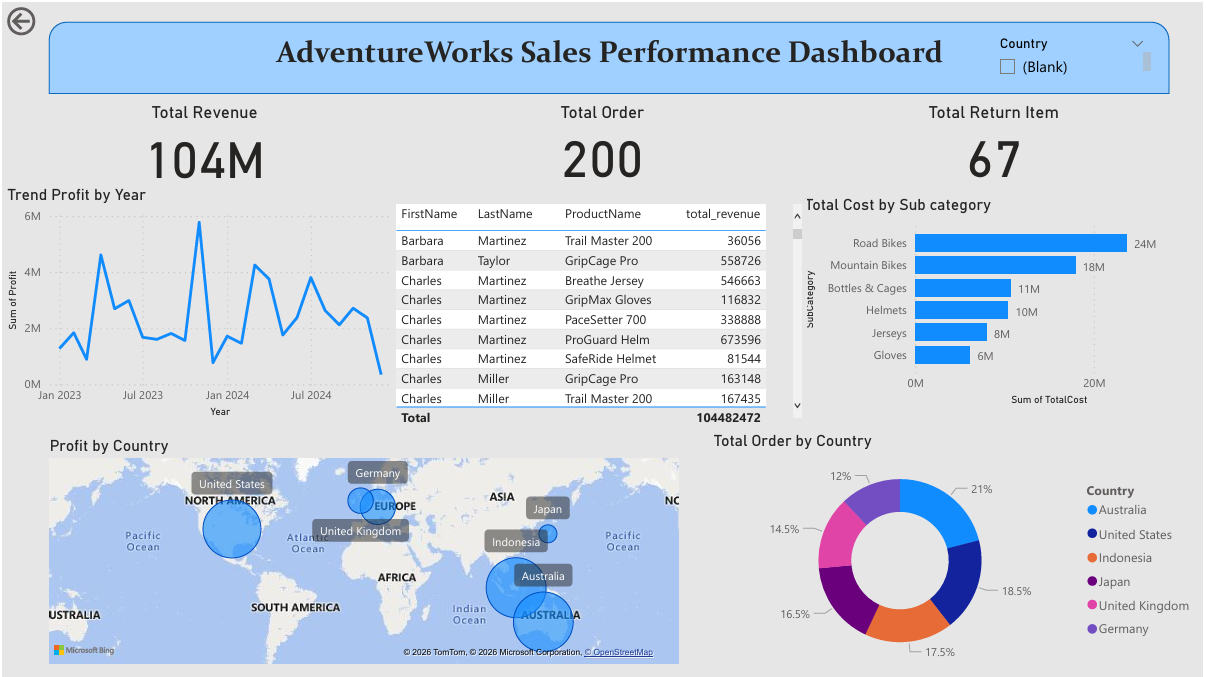

The page's visual inventory and layout, read from the dashboard file:
{"tool":"powerbi","page":{"name":"Page 1","canvas":[1280,720],"ordinal":0},"visuals":[{"type":"card","title":"Total Revenue","fields":{"Values":["Sales-AdventureWorks_Sample_Dataset xlsx.total_revenue"]},"box":[140,105.7,151.4,90],"z":0},{"type":"card","title":"Total Order","fields":{"Values":["Sales-AdventureWorks_Sample_Dataset xlsx.total_order"]},"box":[575.7,105.7,127.1,88.6],"z":1000},{"type":"card","title":"Total Return Item","fields":{"Values":["Returns-AdventureWorks_Sample_Dataset xlsx.total_return_item"]},"box":[967.1,105.7,180,88.6],"z":2000},{"type":"lineChart","title":"Trend Profit by Year","fields":{"Category":["Sales-AdventureWorks_Sample_Dataset xlsx.OrderDate.Variation.Date Hierarchy.Year","Sales-AdventureWorks_Sample_Dataset xlsx.OrderDate.Variation.Date Hierarchy.Month"],"Y":["Sum(Sales-AdventureWorks_Sample_Dataset xlsx.Profit)"]},"box":[0,194.9,430.9,252.5],"z":3000},{"type":"map","title":"Profit by Country","fields":{"Category":["Territories-AdventureWorks_Sample_Dataset xlsx.Country"],"Size":["Sum(Sales-AdventureWorks_Sample_Dataset xlsx.Profit)"]},"box":[45.3,462.4,680.6,248.4],"z":4000},{"type":"barChart","title":"Total Cost by Sub category","fields":{"Category":["Products-AdventureWorks_Sample_Dataset xlsx.SubCategory"],"Y":["Sum(Sales-AdventureWorks_Sample_Dataset xlsx.TotalCost)"]},"box":[851.4,205.7,425.7,228.6],"z":5000},{"type":"donutChart","title":"Total Order by Country","fields":{"Y":["Sales-AdventureWorks_Sample_Dataset xlsx.total_order"],"Category":["Territories-AdventureWorks_Sample_Dataset xlsx.Country"]},"box":[753.3,456.9,526.9,258],"z":6000},{"type":"tableEx","title":"Tabel Total cost","fields":{"Values":["Customers-AdventureWorks_Sample_Dataset xlsx.FirstName","Customers-AdventureWorks_Sample_Dataset xlsx.LastName","Products-AdventureWorks_Sample_Dataset xlsx.ProductName","Sales-AdventureWorks_Sample_Dataset xlsx.total_revenue"]},"box":[414.3,210,442.9,247.1],"z":7000},{"type":"actionButton","box":[0,0,100,40],"z":8000},{"type":"shape","box":[49.4,20.6,1195.2,76.8],"z":9000},{"type":"textbox","box":[65.9,28.8,1163.6,60.4],"z":10000},{"type":"slicer","fields":{"Values":["Territories-AdventureWorks_Sample_Dataset xlsx.Country"]},"box":[1051.4,30,178.6,58.6],"z":11000}]}

Visuals, with their boxes in screenshot pixels (x1, y1, x2, y2), scaled from the page's 1280x720 canvas onto the 1206x677 screenshot:
"Total Revenue" card: l=132, t=99, r=275, b=184
"Total Order" card: l=542, t=99, r=662, b=183
"Total Return Item" card: l=911, t=99, r=1081, b=183
"Trend Profit by Year" lineChart: l=0, t=183, r=406, b=421
"Profit by Country" map: l=43, t=435, r=684, b=668
"Total Cost by Sub category" barChart: l=802, t=193, r=1203, b=408
"Total Order by Country" donutChart: l=710, t=430, r=1205, b=672
"Tabel Total cost" tableEx: l=390, t=197, r=808, b=430
actionButton: l=0, t=0, r=94, b=38
shape: l=47, t=19, r=1173, b=92
textbox: l=62, t=27, r=1158, b=84
slicer - Territories-AdventureWorks_Sample_Dataset xlsx.Country: l=991, t=28, r=1159, b=83
